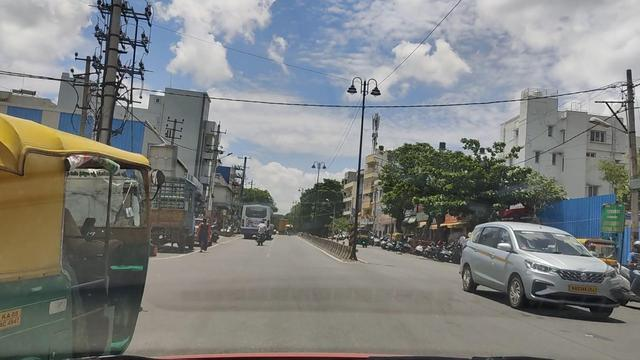LMV: (0, 116, 167, 360)
